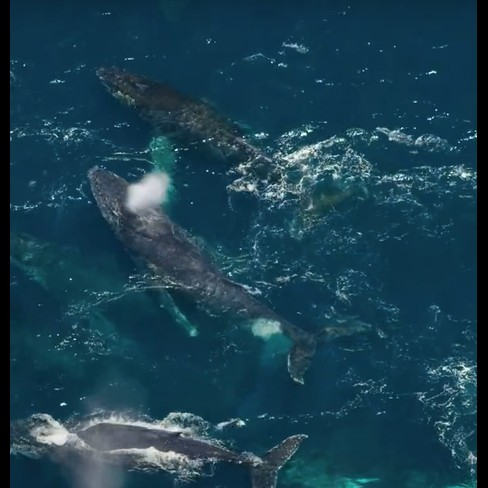hump: (83, 164, 383, 396), (90, 60, 360, 242), (12, 400, 313, 487)
